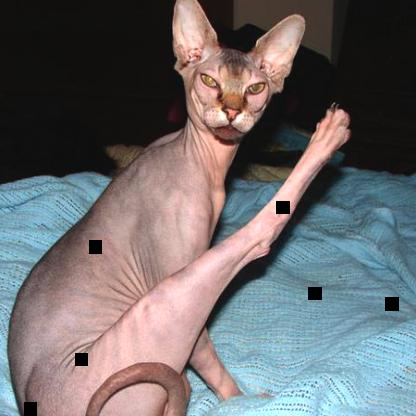cat: (6, 0, 352, 415)
